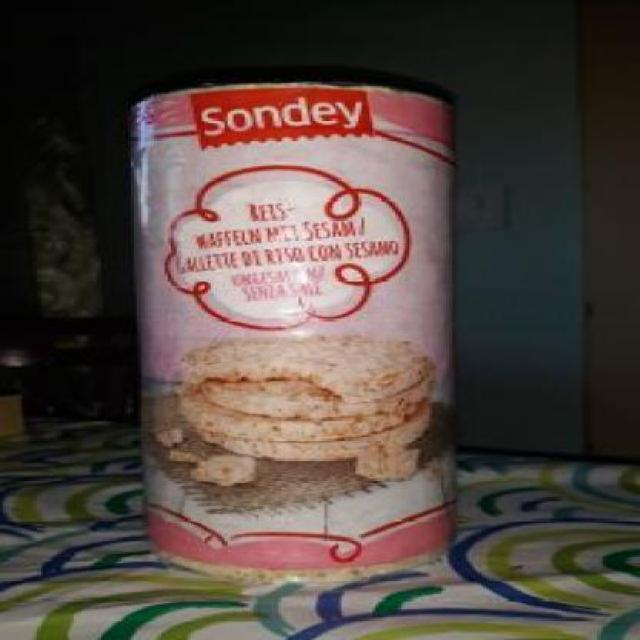Gallette di riso: (125, 81, 464, 584)
